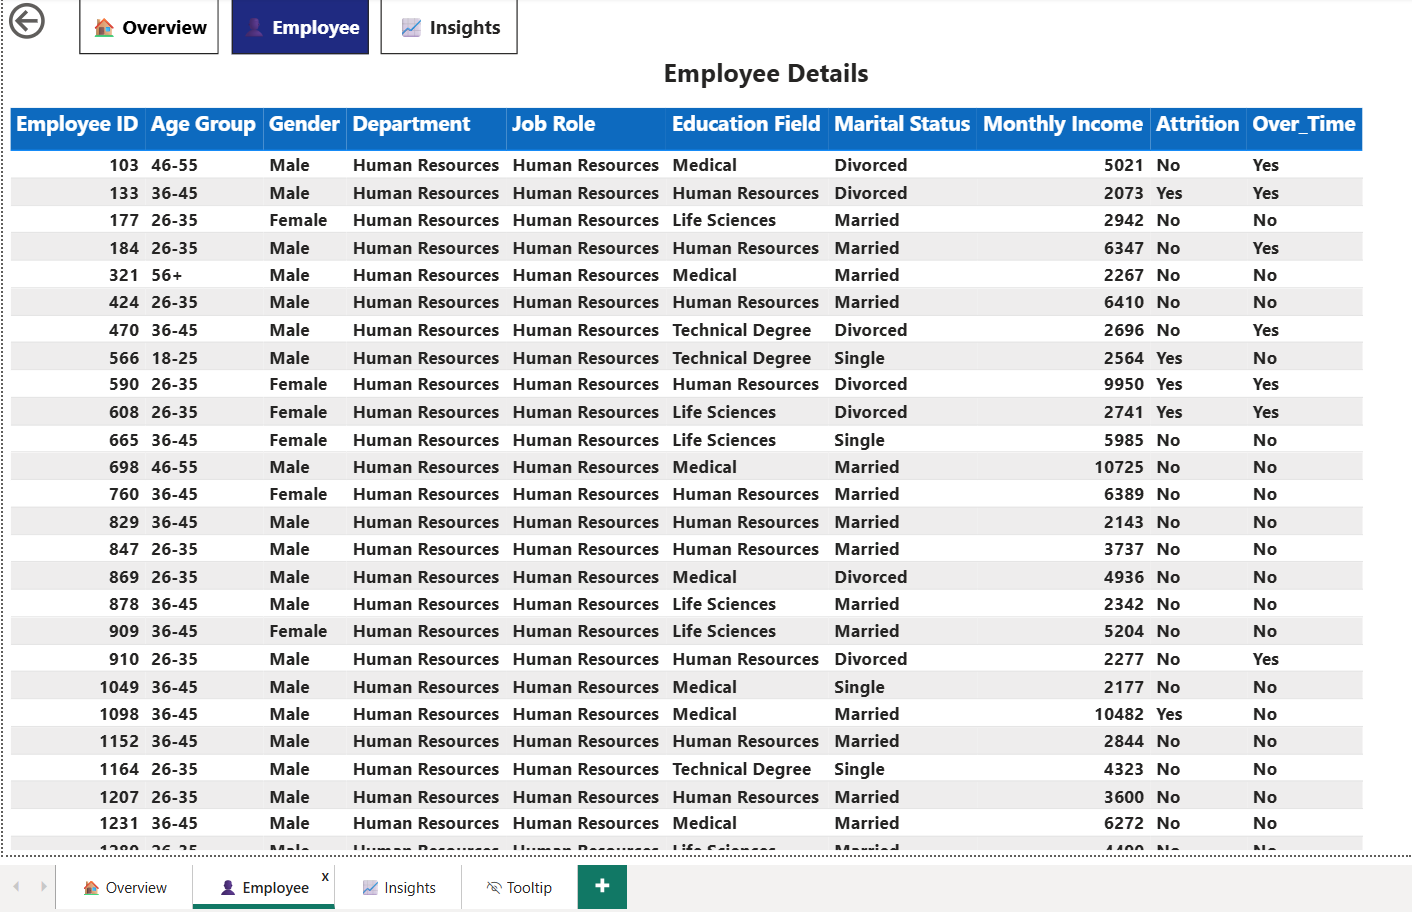

The dashboard page shown, as its layout file describes it:
{"tool":"powerbi","page":{"name":"👤 Employee","canvas":[1280,720],"ordinal":1},"visuals":[{"type":"actionButton","box":[0,0,100,40],"z":0},{"type":"tableEx","title":"Employee Details","fields":{"Values":["Employee_Attrition.Employee_ID","Employee_Attrition.Age Group","Employee_Attrition.Gender","Employee_Attrition.Department","Employee_Attrition.Job_Role","Employee_Attrition.Education_Field","Employee_Attrition.Marital_Status","Employee_Attrition.Monthly_Income","Employee_Attrition.Attrition","Employee_Attrition.Over_Time"]},"box":[0,48,1280,672],"z":1000}]}

Visuals, with their boxes on the page's 1280x720 design canvas (x1, y1, x2, y2). These are canvas units, not pixel positions in the 1412x912 screenshot, which may show the page scaled, cropped or inside an application window:
actionButton: BBox(0, 0, 100, 40)
"Employee Details" tableEx: BBox(0, 48, 1280, 720)
